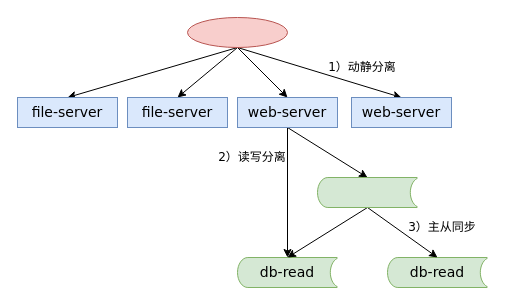
This 505x305 diagram has some shape labels left out. Each missing label, with the centre of its shape:
"browser" goes at pixel 237 32.
"db-write" goes at pixel 367 192.
